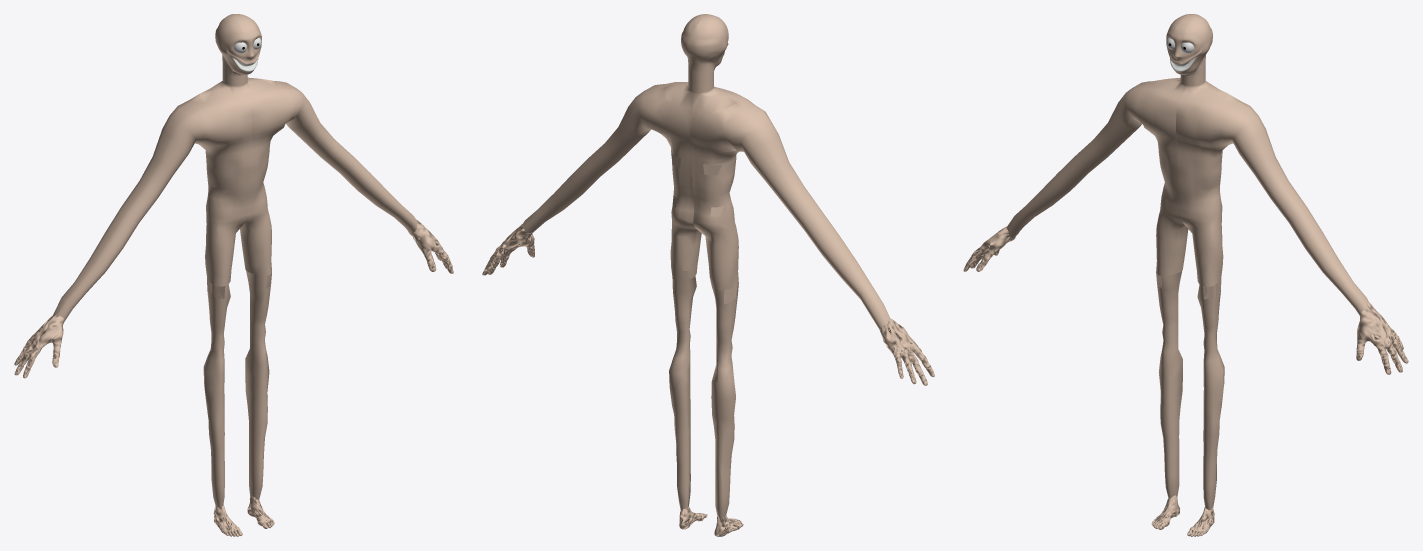
Rendered from Monster.fbx.
3 views of the same model, side by side, from view 1: azimuth 30°, elevation 25°; view 2: azimuth 150°, elevation 25°; view 3: azimuth 330°, elevation 25° (orthographic).
Parts seen in each view (by area): view 1: humanmodelMesh; view 2: humanmodelMesh; view 3: humanmodelMesh.
Boxes of the visible parts, x1=… form: humanmodelMesh: x1=14, y1=14, x2=453, y2=536; humanmodelMesh: x1=482, y1=14, x2=934, y2=536; humanmodelMesh: x1=963, y1=14, x2=1408, y2=536.
Size of the model in its own units: 369 by 411 by 48.48.
